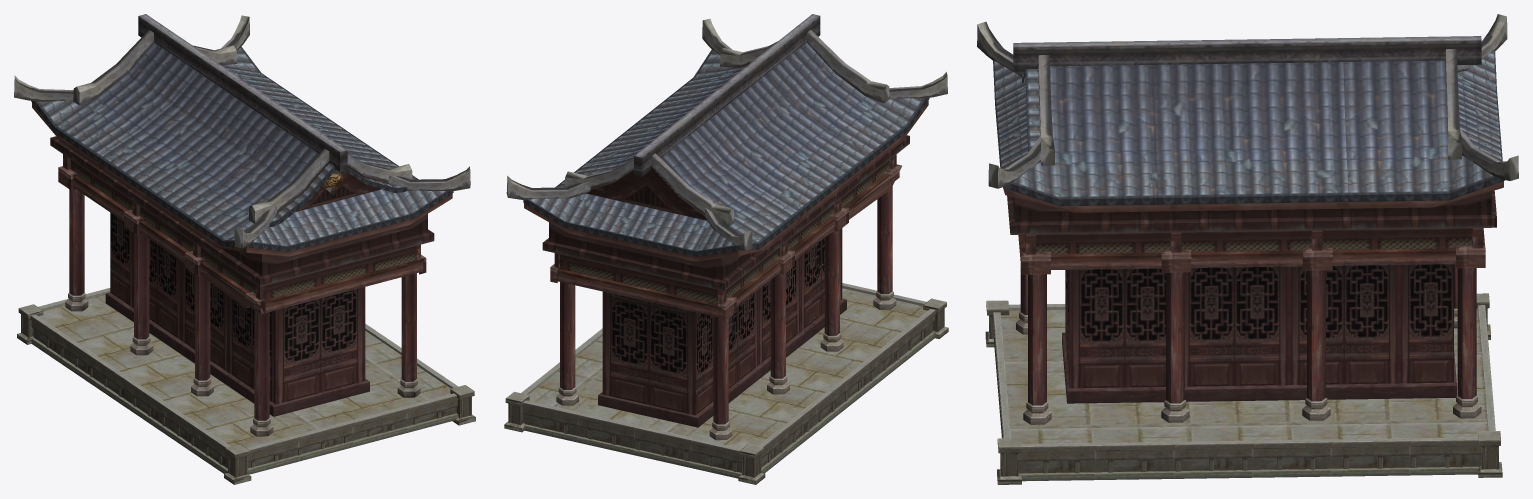
File: build_01_05.FBX
3 views of the same model, side by side, from view 1: azimuth 30°, elevation 25°; view 2: azimuth 150°, elevation 25°; view 3: azimuth 270°, elevation 25° (orthographic). The views are drawn at different scales.
Parts seen in each view (by area): view 1: segment_33, segment_34; view 2: segment_33, segment_34; view 3: segment_33, segment_34.
Boxes of the visible parts, x1,y1,x2,y2 form: segment_33: (14,14,470,436); segment_34: (17,288,475,484); segment_33: (506,14,947,440); segment_34: (504,283,948,484); segment_33: (977,14,1518,424); segment_34: (985,293,1502,484).
Size of the model in its own units: 160 by 175 by 236.
